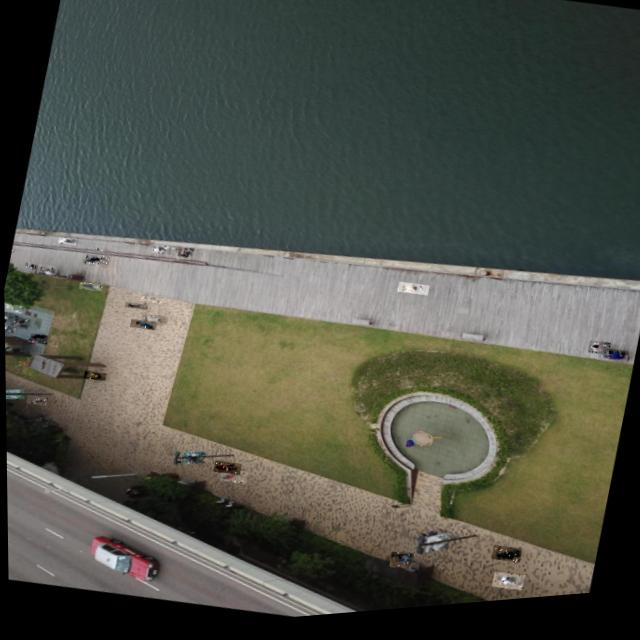Person: (490, 577, 523, 600), (489, 550, 520, 572), (396, 285, 428, 303), (212, 461, 242, 480), (387, 555, 412, 576), (218, 470, 247, 488), (139, 313, 167, 329), (601, 356, 628, 372), (129, 318, 156, 333), (586, 348, 609, 365), (84, 252, 109, 267), (80, 257, 107, 270), (77, 280, 101, 294), (82, 370, 105, 383), (25, 392, 46, 406), (138, 295, 162, 307), (36, 262, 55, 276), (123, 301, 147, 312), (174, 249, 191, 263), (4, 300, 22, 313), (57, 235, 76, 247), (7, 319, 27, 330), (28, 331, 47, 341), (23, 261, 42, 271), (39, 265, 56, 276), (11, 316, 29, 326), (27, 336, 46, 345), (150, 245, 164, 256), (93, 246, 106, 255), (4, 322, 15, 332), (27, 337, 36, 343), (4, 317, 11, 324), (4, 326, 7, 333), (10, 247, 14, 252), (4, 313, 7, 318)
